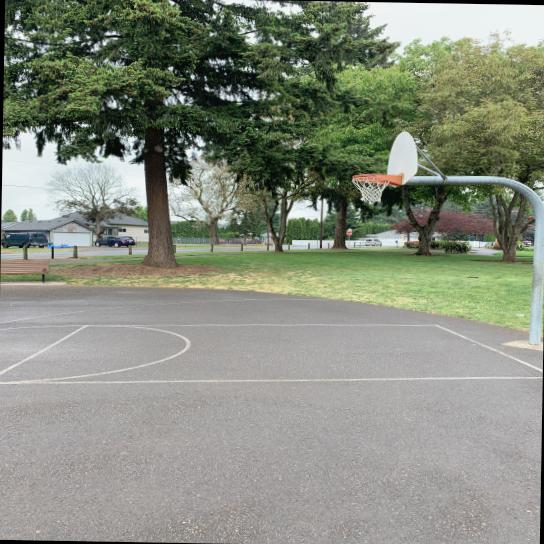basketball-hoop: (350, 172, 389, 204)
